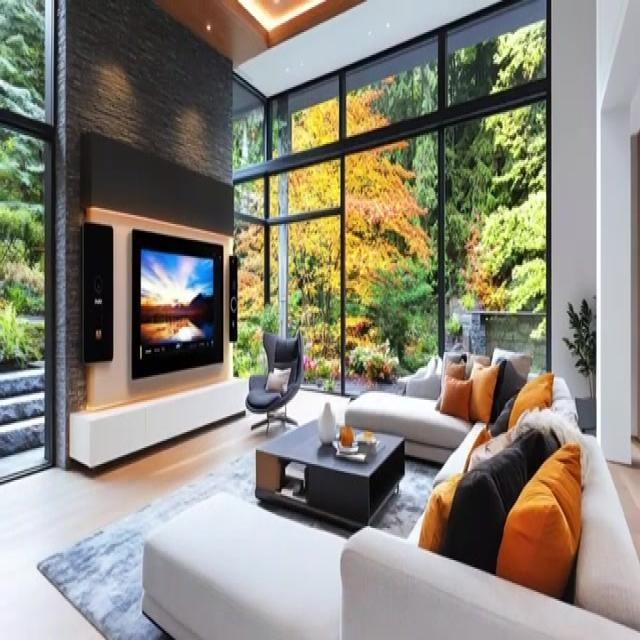obstacle: (345, 346, 639, 640), (254, 416, 405, 530), (244, 329, 304, 434)
